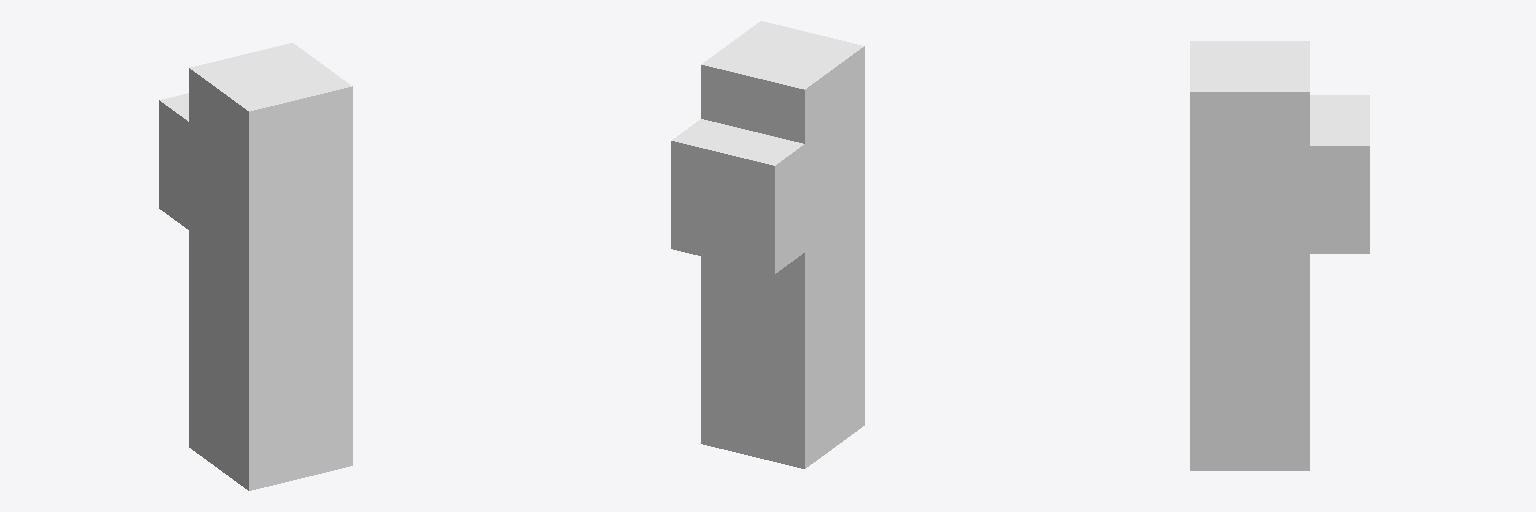
File: PersonFixed0.obj
3 renders of one model, left to right at view 1: azimuth 30°, elevation 25°; view 2: azimuth 150°, elevation 25°; view 3: azimuth 270°, elevation 25°, orthographic.
Size of the model in its own units: 2 by 7 by 3.